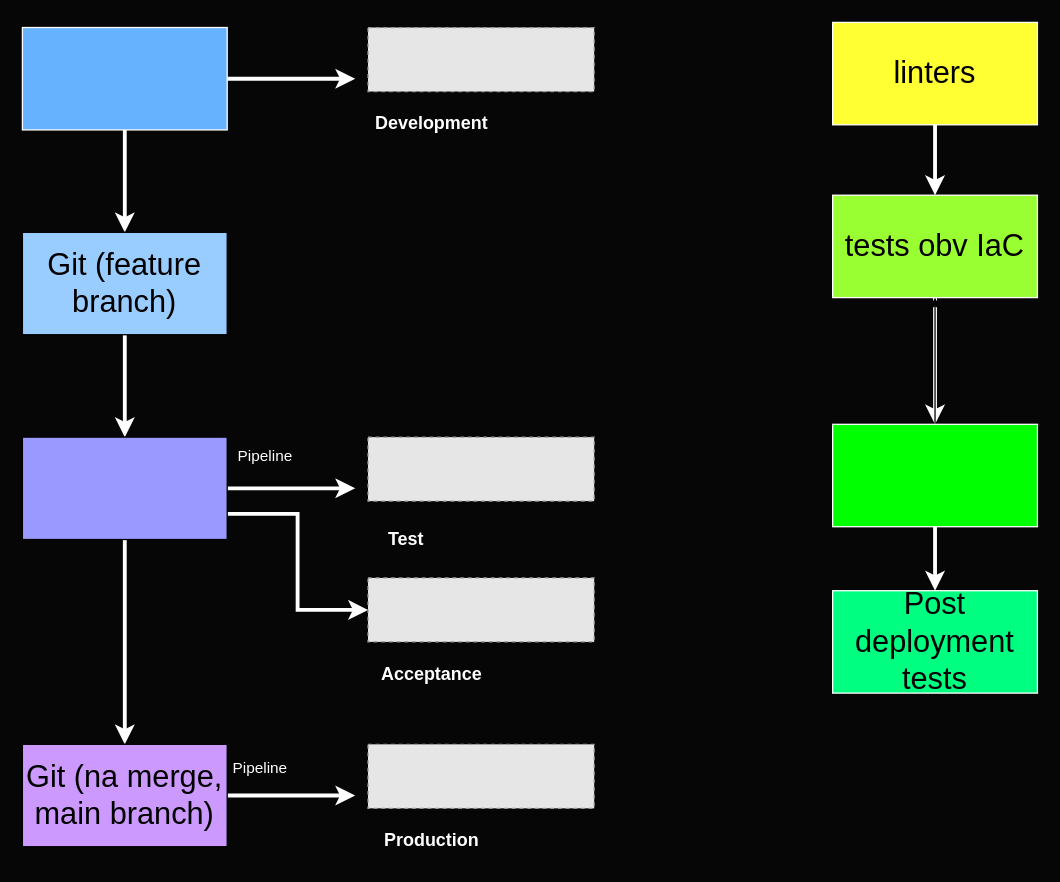
Some shapes in this 1060 by 882 pixel diagram are drawn without their labels. Grey dashed boxes stand in for pictures. Each missing label, with the centre of its shape:
"Deployment" goes at (934,475).
"Git (merge request)" goes at (124,488).
"Laptop" goes at (124,78).
